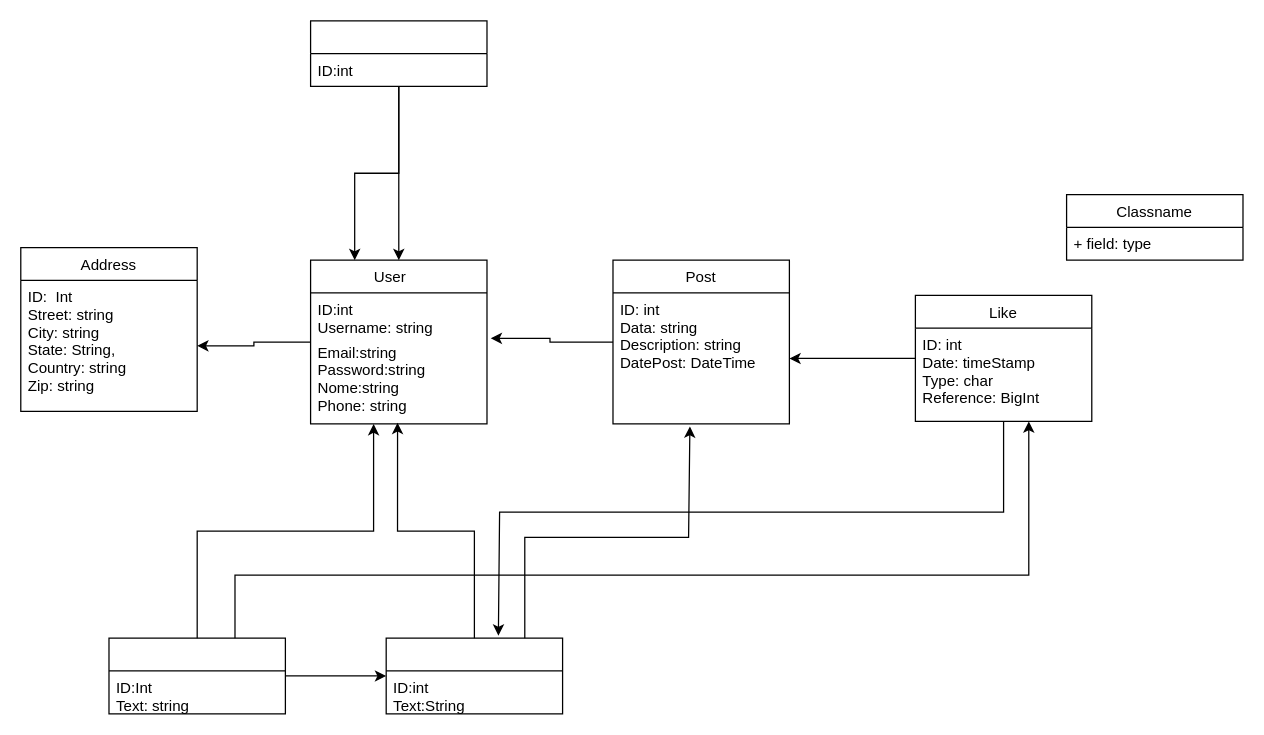
The diagram is 1264 pixels wide and 735 high, and some of its shapes have lost their labels. Each missing label, with the box of its shape:
Comments: (385, 637, 563, 714)
Follow: (309, 20, 487, 86)
ResponseComments: (108, 637, 285, 714)
